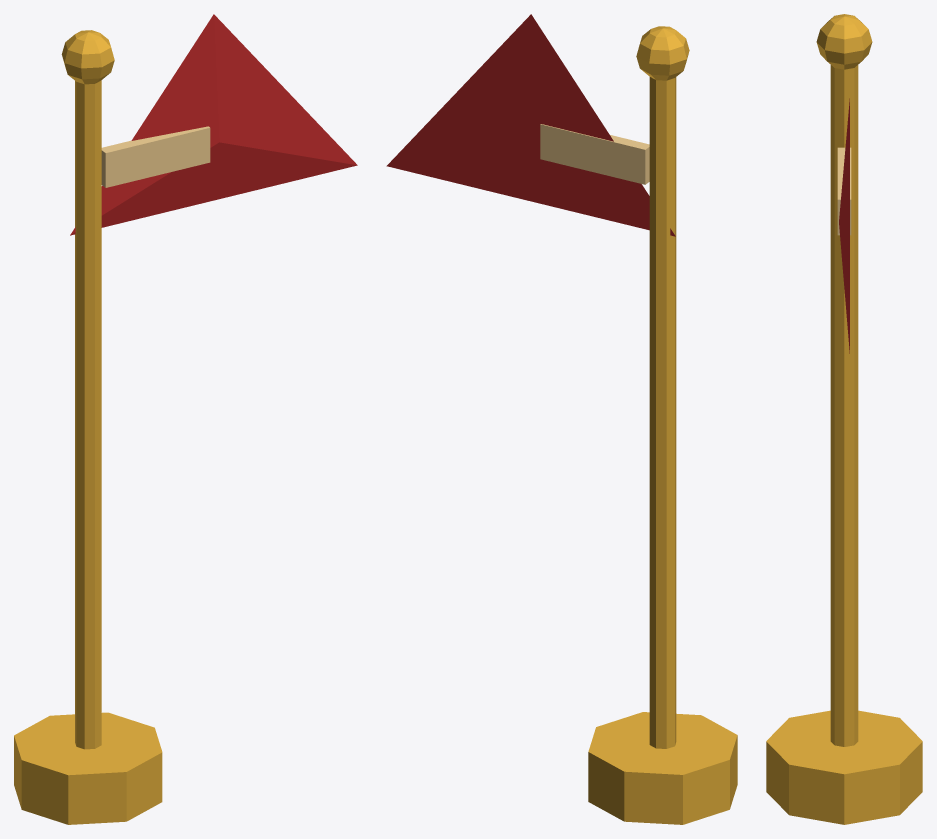
File: decoracao-bandeira-n1.glb
The picture shows the model from 3 angles, left to right: view 1: azimuth 30°, elevation 25°; view 2: azimuth 150°, elevation 25°; view 3: azimuth 270°, elevation 25°; orthographic projection.
Visible parts, largest first — view 1: Cone, Cylinder.001, Cylinder, Cube, Sphere; view 2: Cone, Cylinder.001, Cylinder, Cube, Sphere; view 3: Cylinder.001, Cylinder, Sphere, Cone, Cube.
Part boxes in pixels (x1,y1,x2,y2): Cone: (70,14,357,235); Cylinder.001: (75,80,101,749); Cylinder: (14,712,162,824); Cube: (101,126,210,187); Sphere: (61,30,114,84); Cone: (386,14,675,236); Cylinder.001: (649,77,676,748); Cylinder: (588,712,737,824); Cube: (540,124,649,184); Sphere: (636,26,689,80); Cylinder.001: (830,65,858,746); Cylinder: (766,710,922,824); Sphere: (816,14,872,69); Cone: (839,98,849,353); Cube: (837,147,851,235).
Size of the model in its own units: 0.7131 by 1.53 by 0.28.
